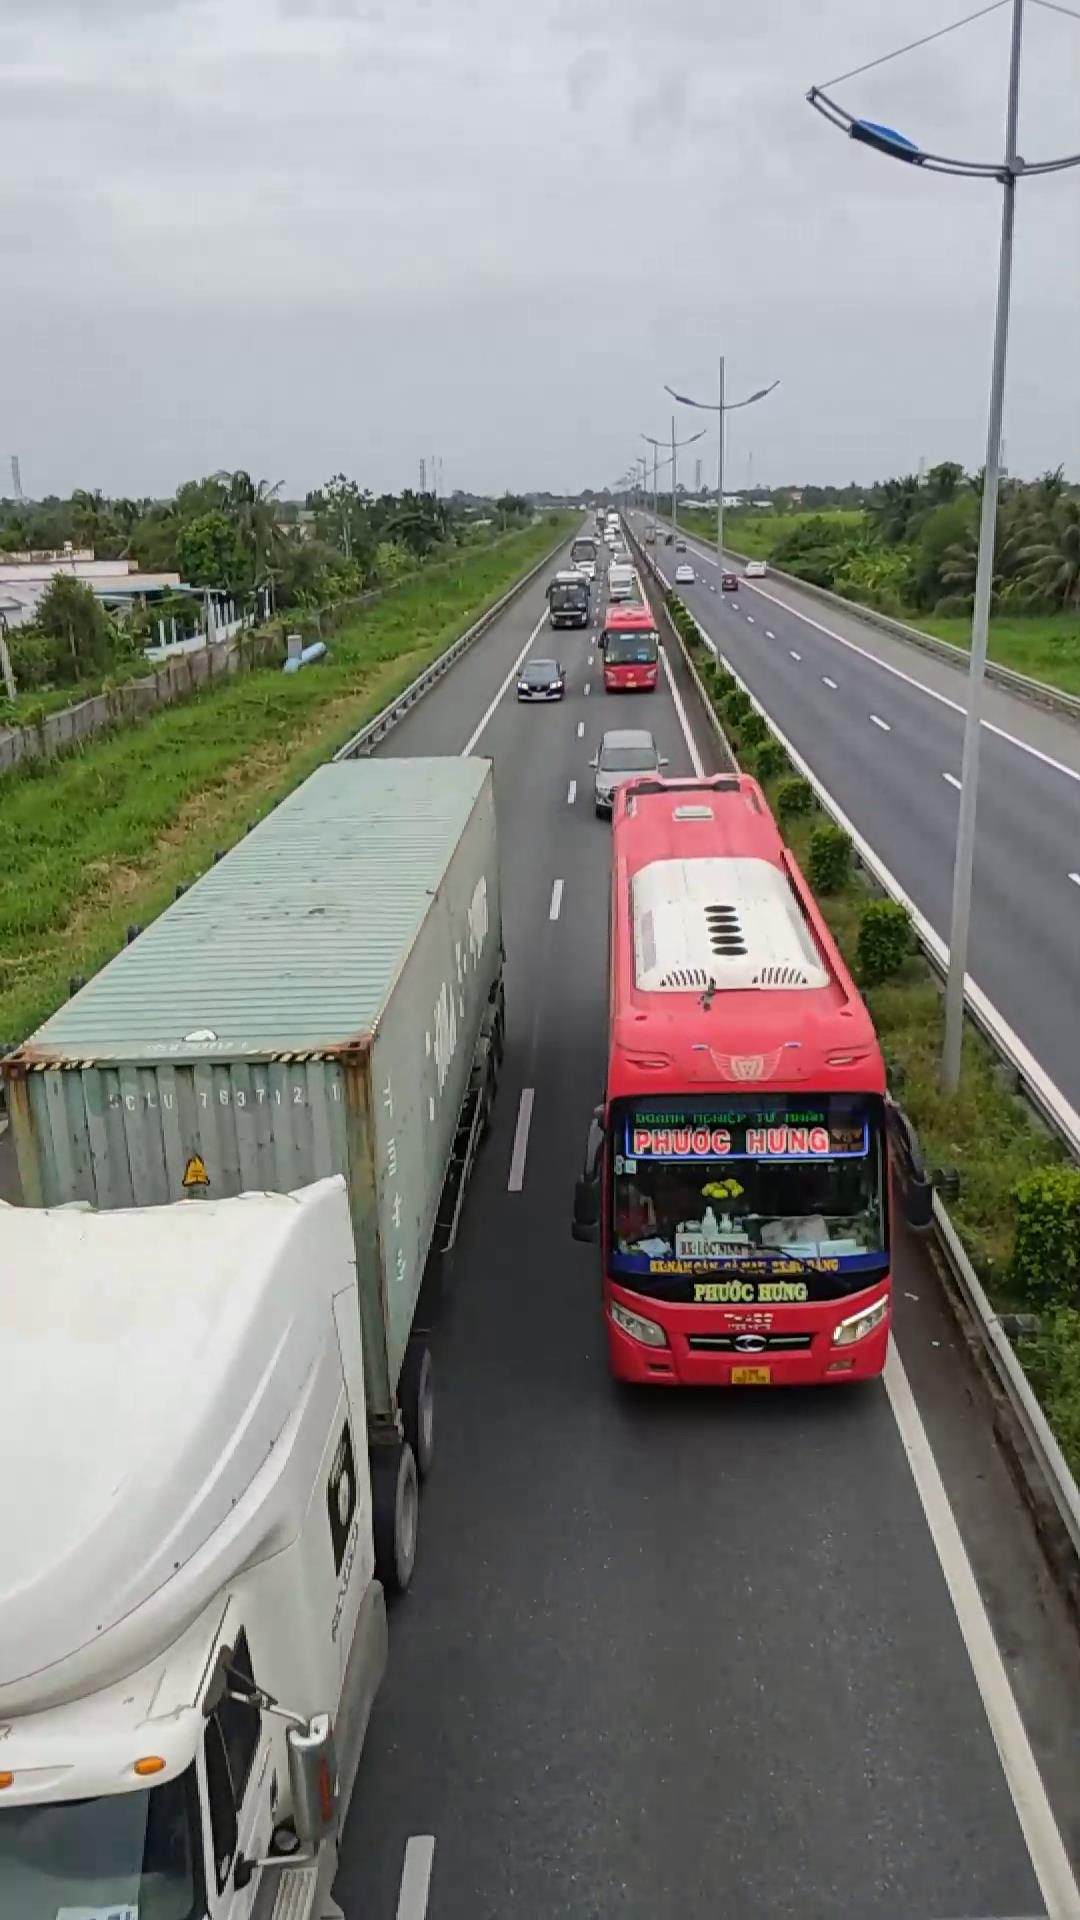bus: (589, 765, 901, 1393)
container: (0, 749, 506, 1913)
